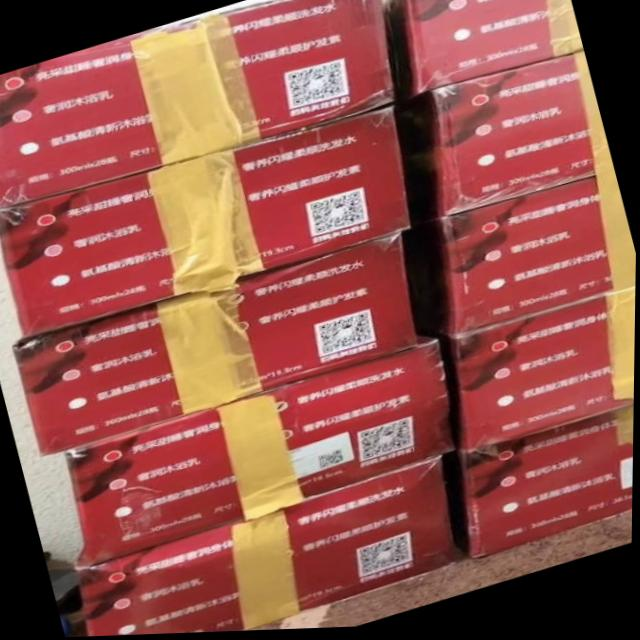box: (0, 107, 411, 339), (66, 335, 456, 570), (15, 233, 421, 458), (0, 0, 394, 209), (76, 458, 461, 637), (401, 175, 637, 340), (395, 53, 615, 227), (453, 289, 636, 453), (463, 408, 635, 561), (380, 0, 584, 107)
